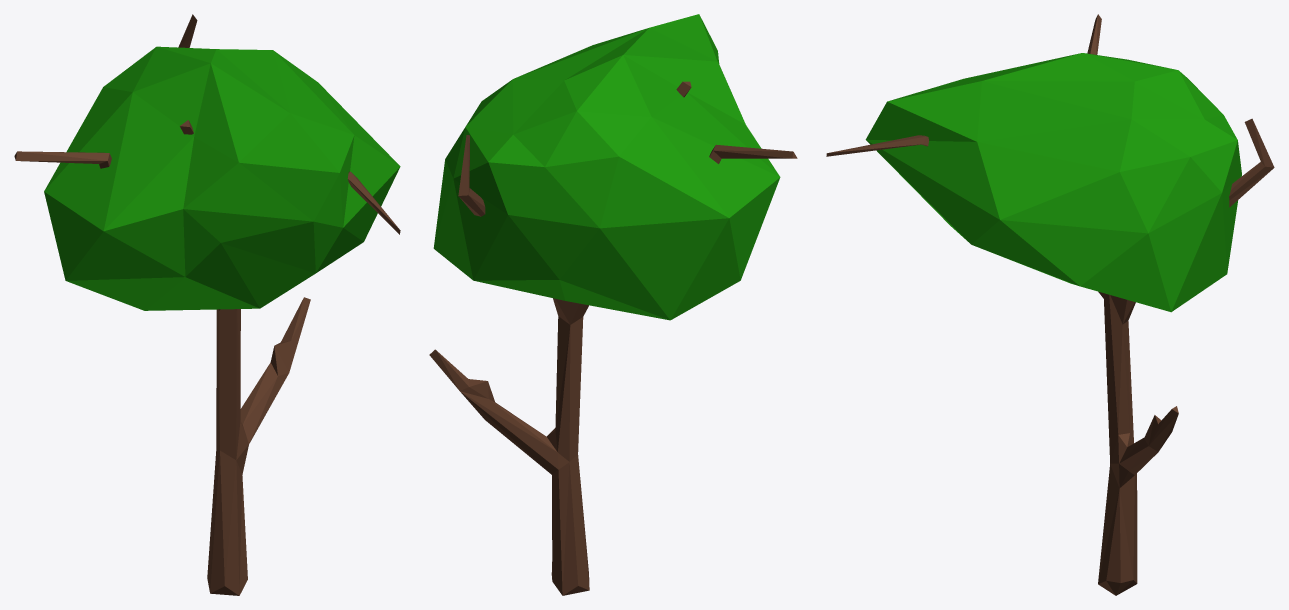
Rendered from Tree2.dae.
3 renders of one model, left to right at view 1: azimuth 30°, elevation 25°; view 2: azimuth 150°, elevation 25°; view 3: azimuth 270°, elevation 25°, orthographic. The views are drawn at different scales.
Visible parts, largest first — view 1: Cube; view 2: Cube; view 3: Cube.
Part boxes in pixels (left/top/right/bottom): Cube: left=14, top=14, right=400, bottom=595; Cube: left=429, top=14, right=797, bottom=595; Cube: left=826, top=14, right=1274, bottom=595.
Bounding box in the file's own units: 4.06 × 4.81 × 6.18.
1 material, 1 textured.
